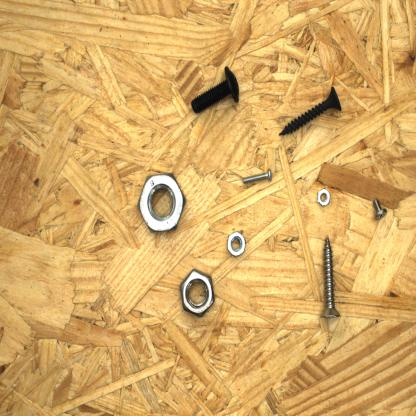screw: (276, 84, 344, 140), (189, 62, 242, 117), (321, 233, 343, 320), (240, 166, 273, 185), (370, 197, 388, 221)
